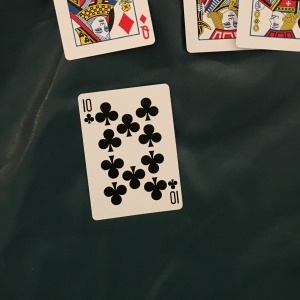card: (76, 83, 184, 223)
